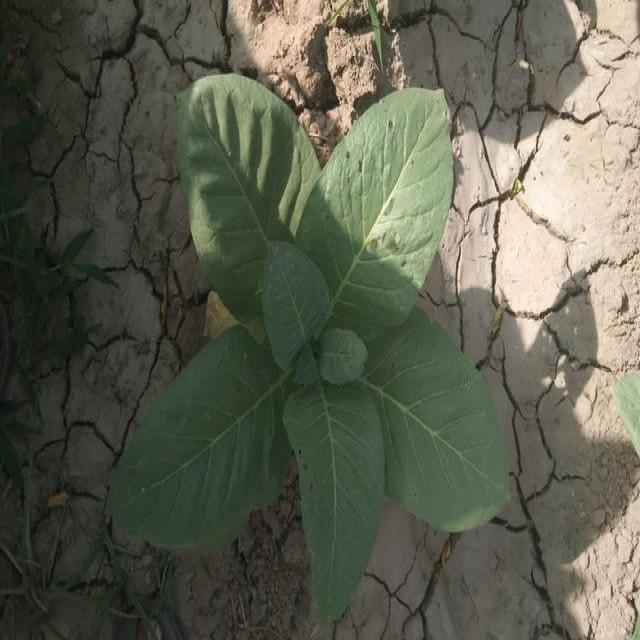crop: (110, 90, 504, 610)
